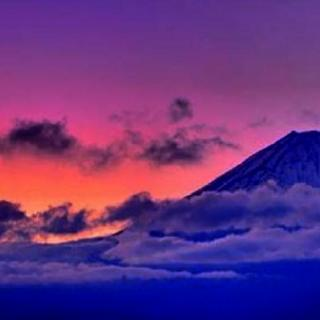Altocumulus: (0, 9, 320, 300)
